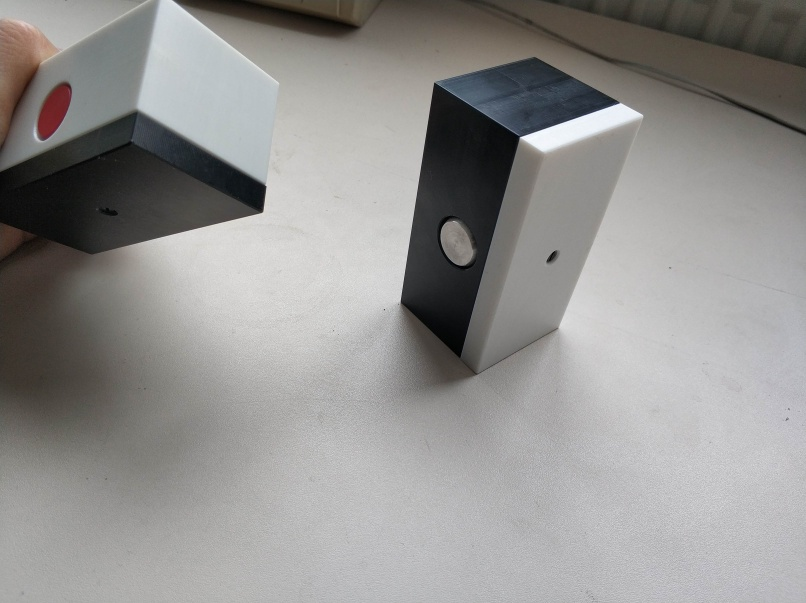black+white+red: (1, 4, 285, 258)
white+black+silver: (393, 55, 645, 381)
